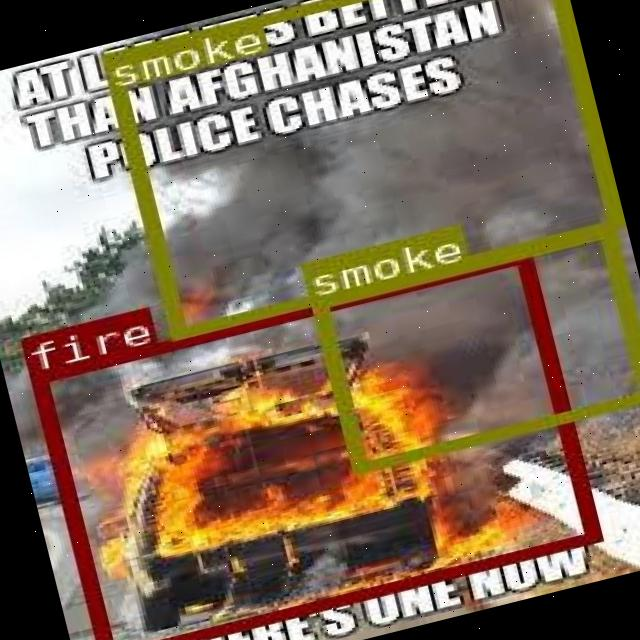fire: (28, 249, 599, 640)
smoke: (100, 0, 619, 336), (307, 224, 640, 473)
